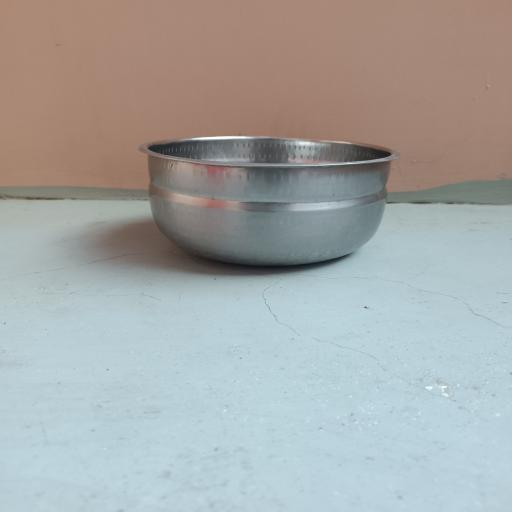vessel: (140, 136, 400, 266)
